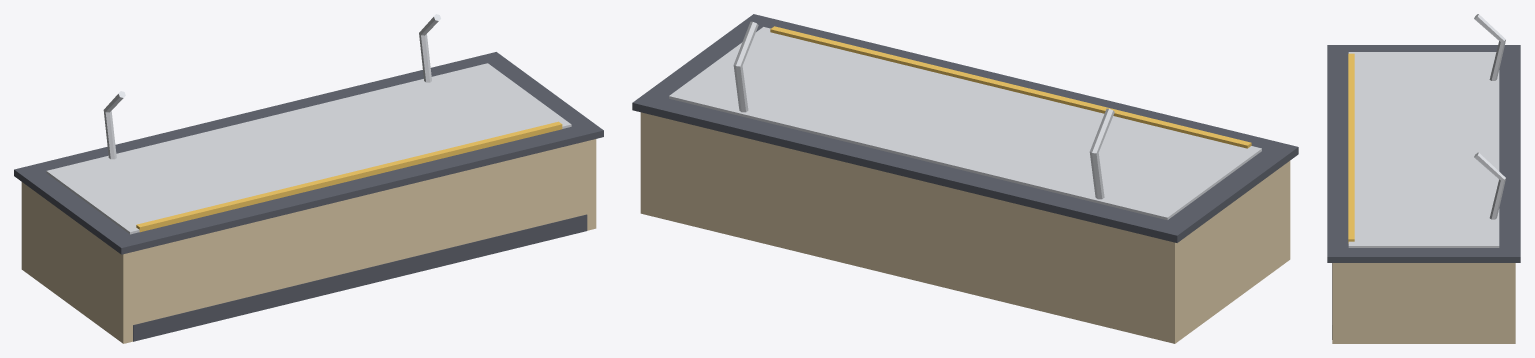
Rendered from snowboard-gear-and-freestyle-riders-display-podium-7e16f90a__27189.glb.
3 views of the same model, side by side, from view 1: azimuth 30°, elevation 25°; view 2: azimuth 150°, elevation 25°; view 3: azimuth 270°, elevation 25° (orthographic). The views are drawn at different scales.
Visible parts, largest first — view 1: display-podium; view 2: display-podium; view 3: display-podium.
Boxes of the visible parts, bbox=[...] form: display-podium: bbox=[14, 14, 603, 343]; display-podium: bbox=[632, 14, 1298, 343]; display-podium: bbox=[1327, 14, 1520, 343].
Size of the model in its own units: 1.53 by 0.5278 by 0.5901.
